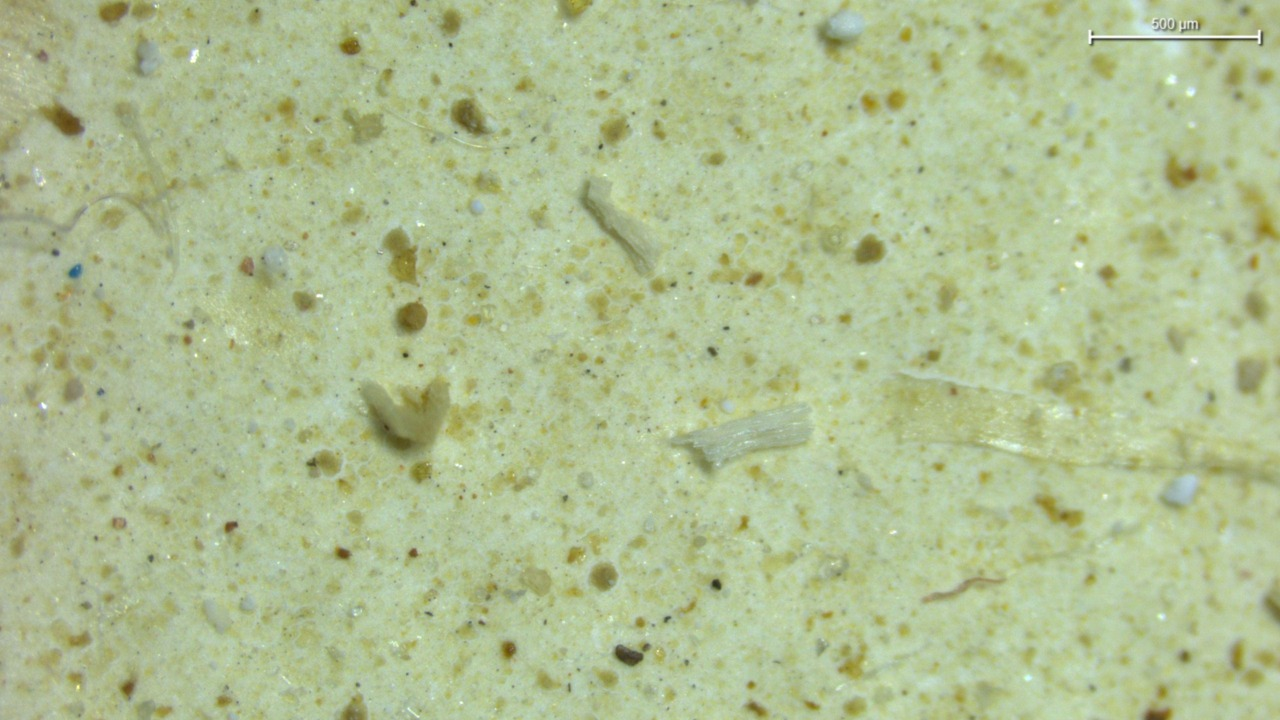microplastic_fragment: (670, 404, 814, 469), (581, 176, 659, 273), (359, 376, 450, 444), (821, 9, 866, 42)
